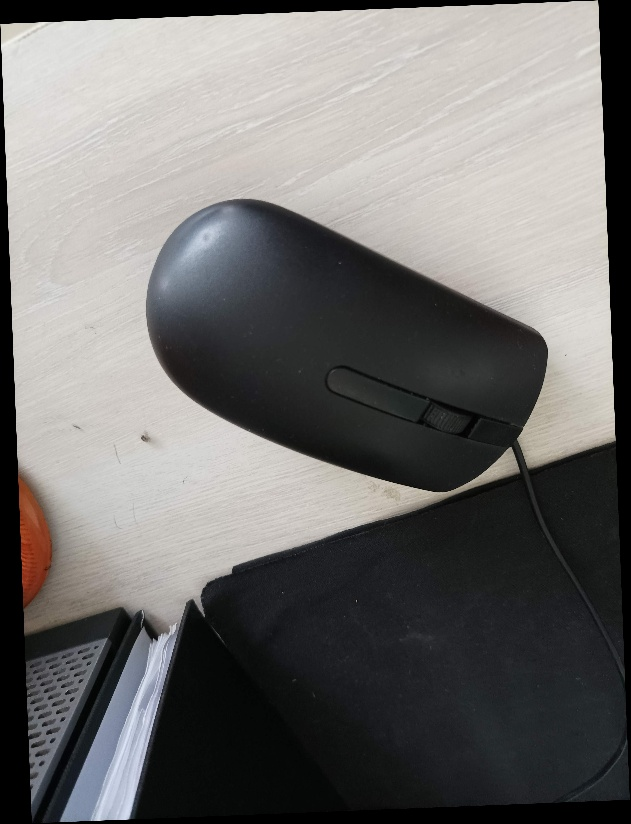mouse: (142, 194, 551, 496)
